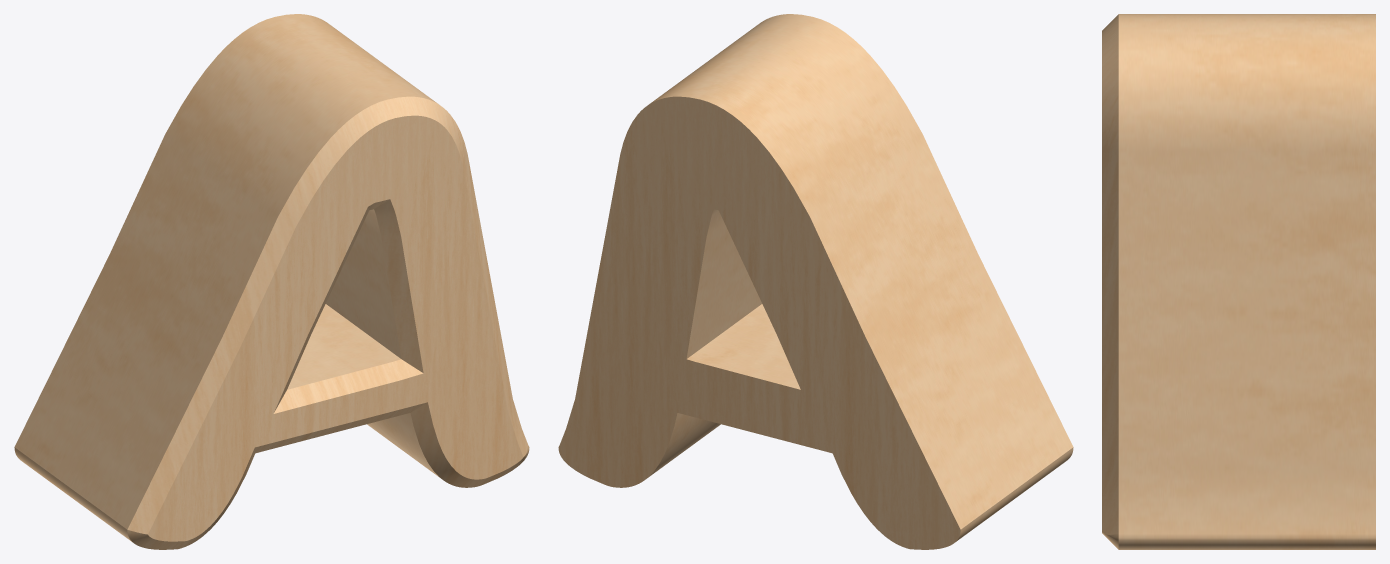
File: A copia.dae
3 views of the same model, side by side, from view 1: azimuth 30°, elevation 25°; view 2: azimuth 150°, elevation 25°; view 3: azimuth 270°, elevation 25° (orthographic). The views are drawn at different scales.
Visible parts, largest first — view 1: A; view 2: A; view 3: A.
Boxes of the visible parts, x1,y1,x2,y2 form: A: [14, 14, 529, 549]; A: [558, 14, 1073, 549]; A: [1102, 14, 1375, 549].
Size of what is drawn, in the model's own units: 682 by 663 by 353.
4 materials, 4 textured.
